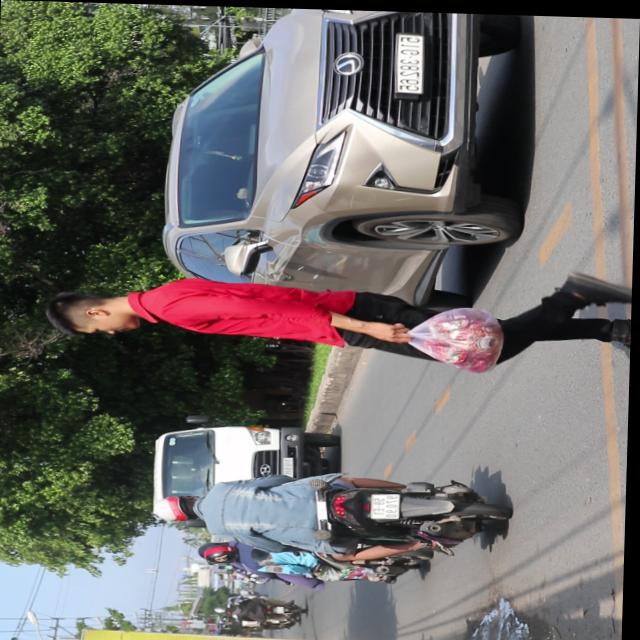helmet: (154, 492, 205, 522)
licenseplate: (152, 461, 510, 560)
nohelmet: (372, 490, 403, 517)
